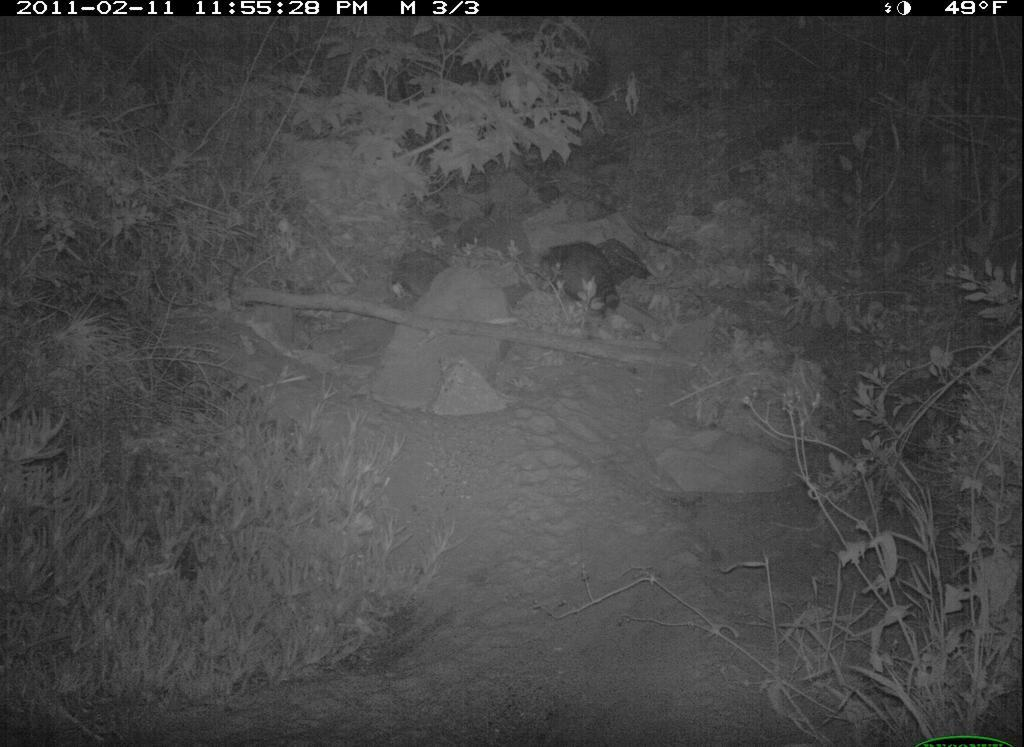raccoon: (537, 230, 658, 325)
